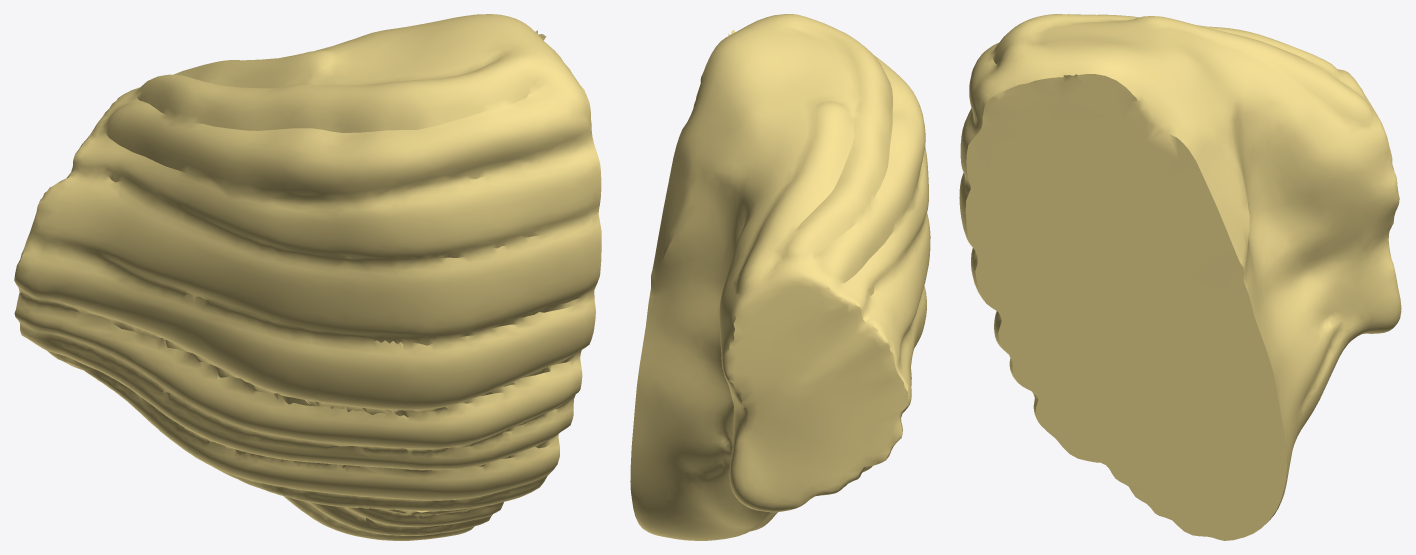
The model's file is fma73654_mm3480m.glb.
3 renders of one model, left to right at view 1: azimuth 30°, elevation 25°; view 2: azimuth 150°, elevation 25°; view 3: azimuth 270°, elevation 25°, orthographic. The views are drawn at different scales.
Parts seen in each view (by area): view 1: FMA73654_MM3480M; view 2: FMA73654_MM3480M; view 3: FMA73654_MM3480M.
Part boxes in pixels (x1,y1,x2,y2): FMA73654_MM3480M: (14, 14, 601, 540); FMA73654_MM3480M: (630, 14, 930, 540); FMA73654_MM3480M: (959, 14, 1401, 540).
Size of the model in its own units: 0.0206 by 0.0298 by 0.025.
